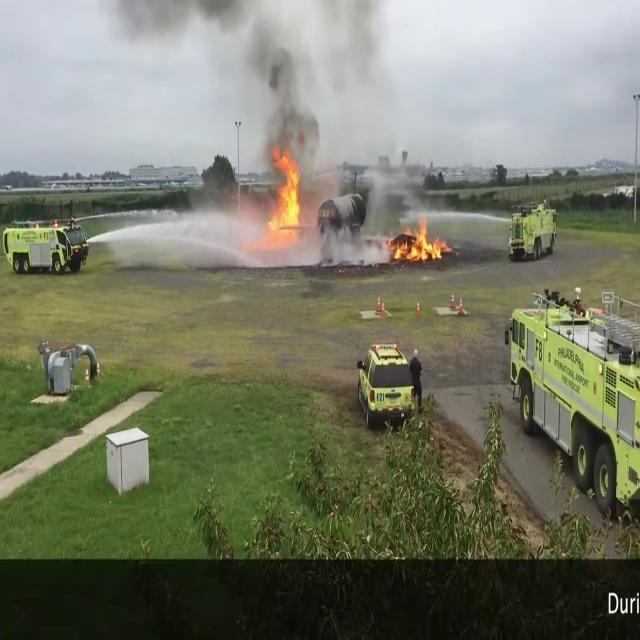Fire: (266, 145, 306, 244), (388, 214, 452, 266)
Smoke: (115, 0, 333, 167)
